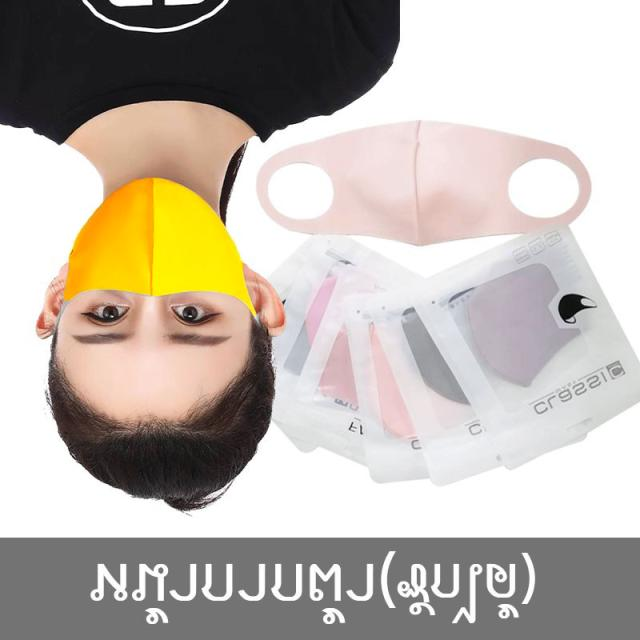Mask: (62, 173, 252, 303)
